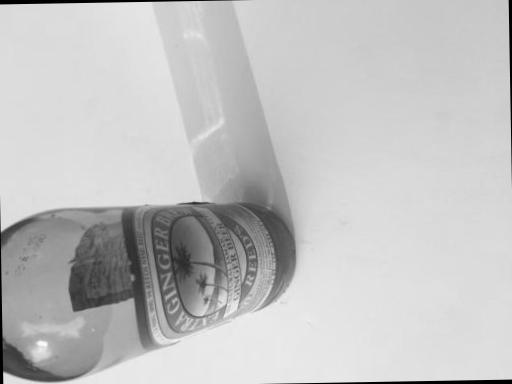glass: (0, 172, 327, 384)
